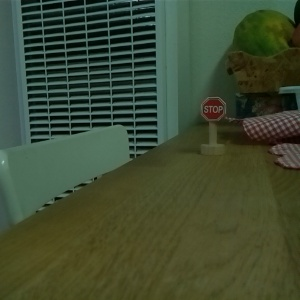stop sign: (198, 94, 228, 158)
